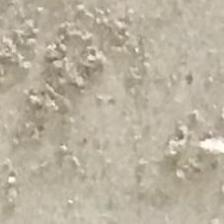Non_Crack: (27, 47, 224, 224)
